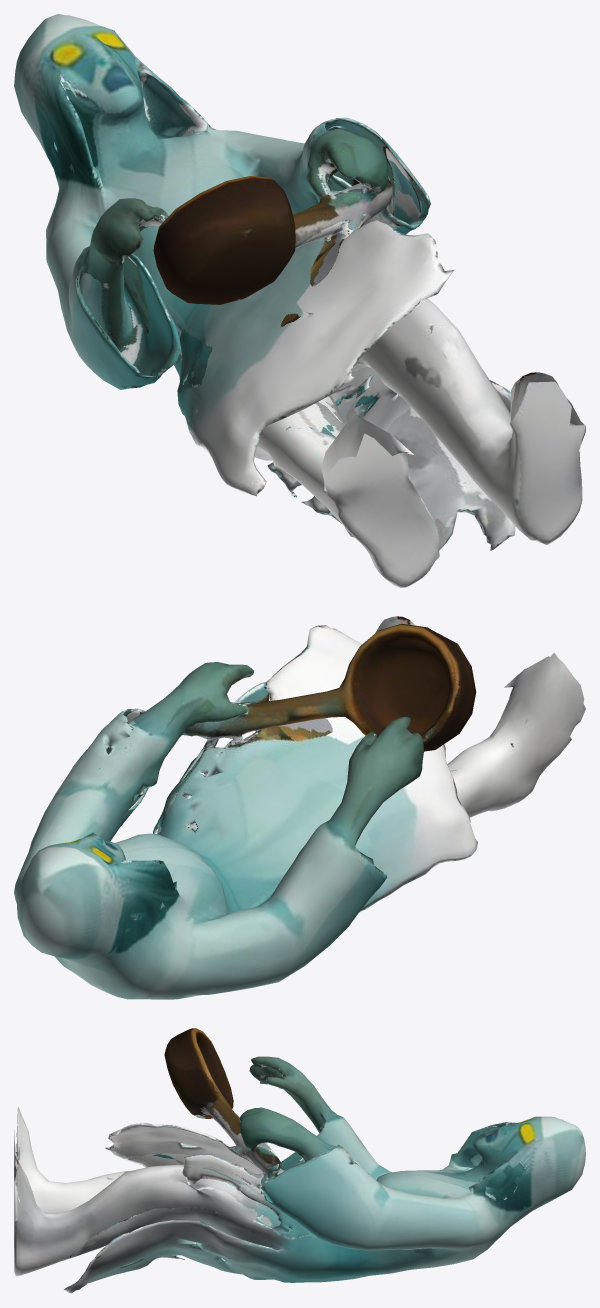
Rendered from Funayurei.glb.
3 renders of one model, top to bottom at view 1: azimuth 30°, elevation 25°; view 2: azimuth 150°, elevation 25°; view 3: azimuth 270°, elevation 25°, orthographic. The views are drawn at different scales.
Visible parts, largest first — view 1: Retopo_funayurei.001; view 2: Retopo_funayurei.001; view 3: Retopo_funayurei.001.
Part boxes in pixels (box(x1,y1,x2,y2)): Retopo_funayurei.001: box(14, 14, 585, 587); Retopo_funayurei.001: box(14, 616, 585, 999); Retopo_funayurei.001: box(14, 1028, 585, 1293).
Size of the model in its own units: 0.8604 by 0.8375 by 1.95.
Materials: 1 (1 with a texture image).
